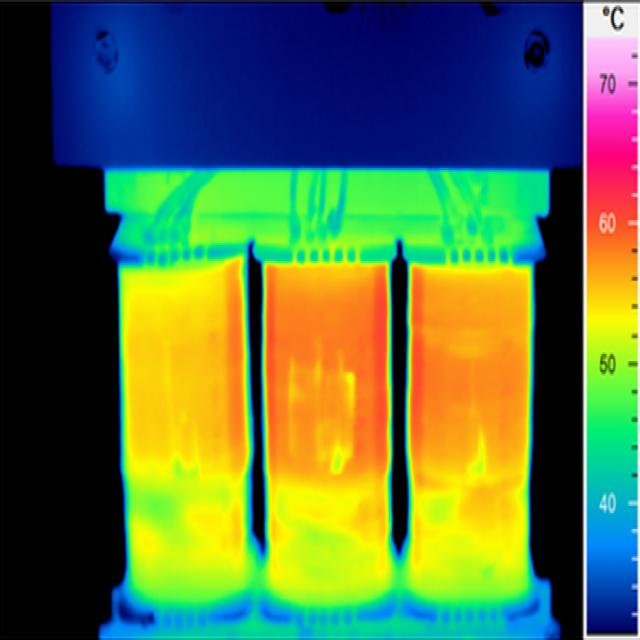Transformer: (52, 4, 579, 636)
